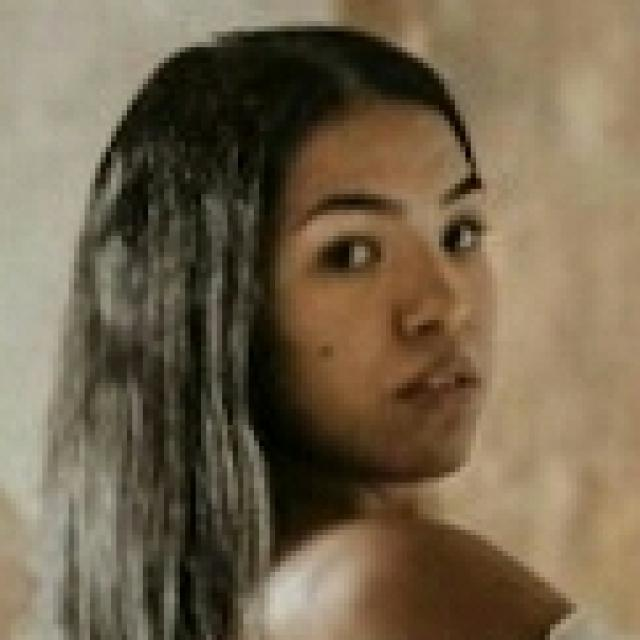front: (266, 179, 524, 440)
